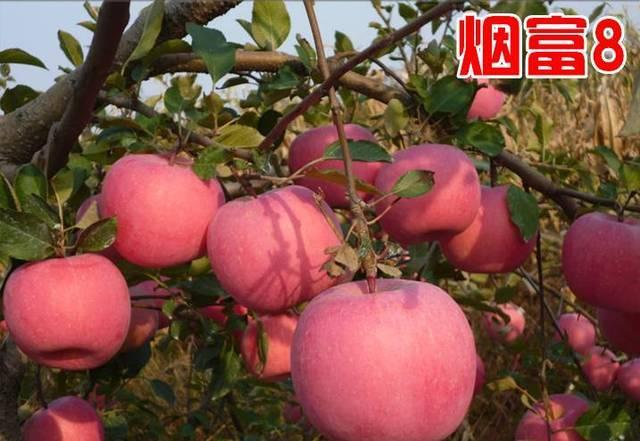apple: (287, 280, 482, 438), (209, 184, 349, 313), (93, 150, 227, 271), (4, 253, 134, 368), (373, 144, 481, 244), (439, 184, 536, 272), (287, 121, 381, 206), (562, 211, 639, 309), (516, 393, 595, 441), (22, 395, 105, 440)
